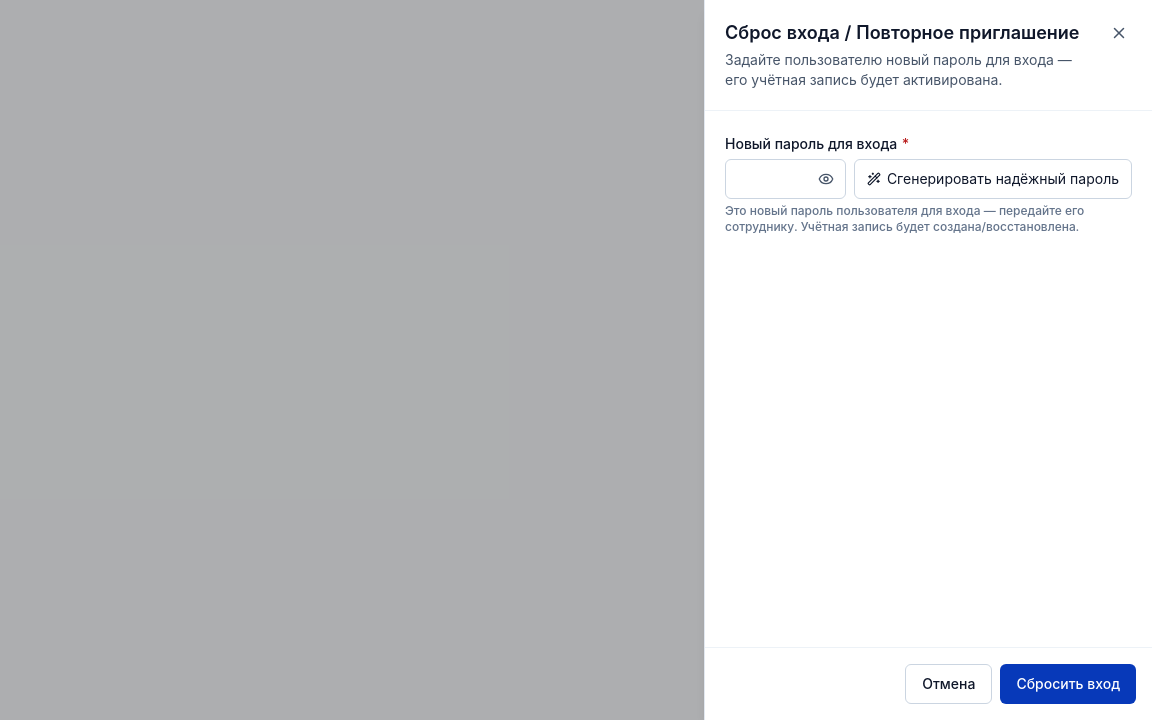
Test: <ResetLoginDialog /> › maps a 502 IDP_PROVISIONING_FAILED to a general try-again banner
Type "Str0ng!Passw0rd" into the password field with test id "reset-login-password-input".
click(785, 179); type("Str0ng!Passw0rd")  # box left=725, top=159, right=846, bottom=199
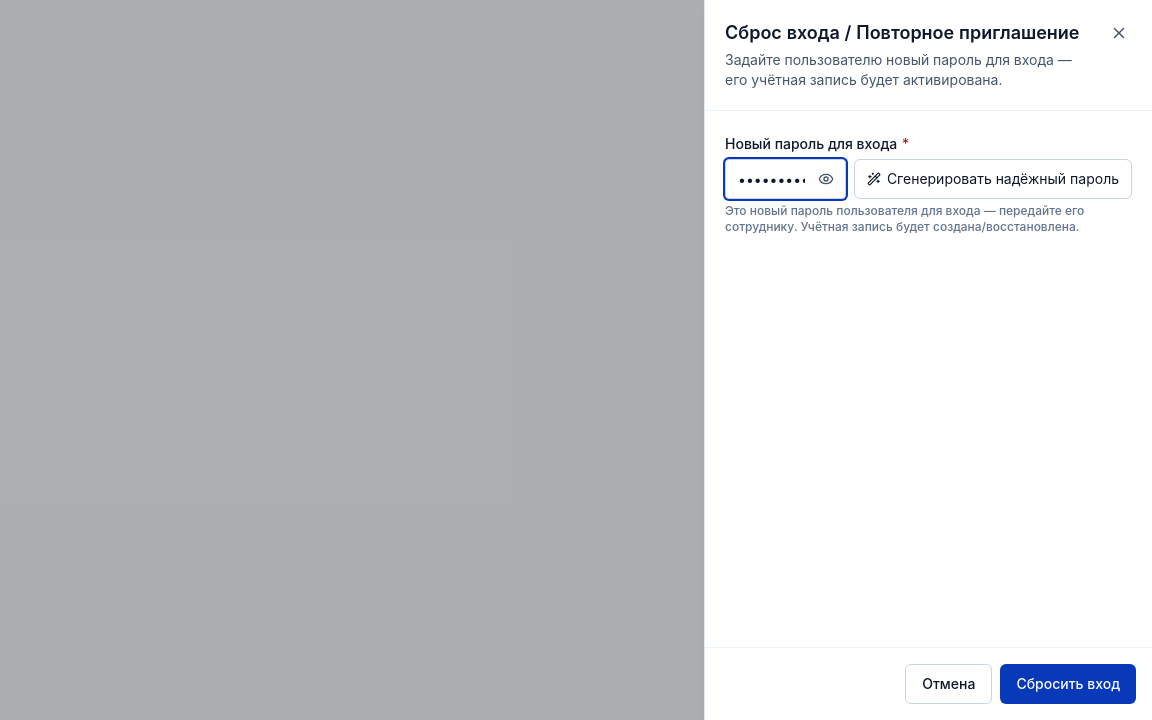
Click the button "Сбросить вход".
click(1068, 684)  # box left=1000, top=664, right=1136, bottom=704
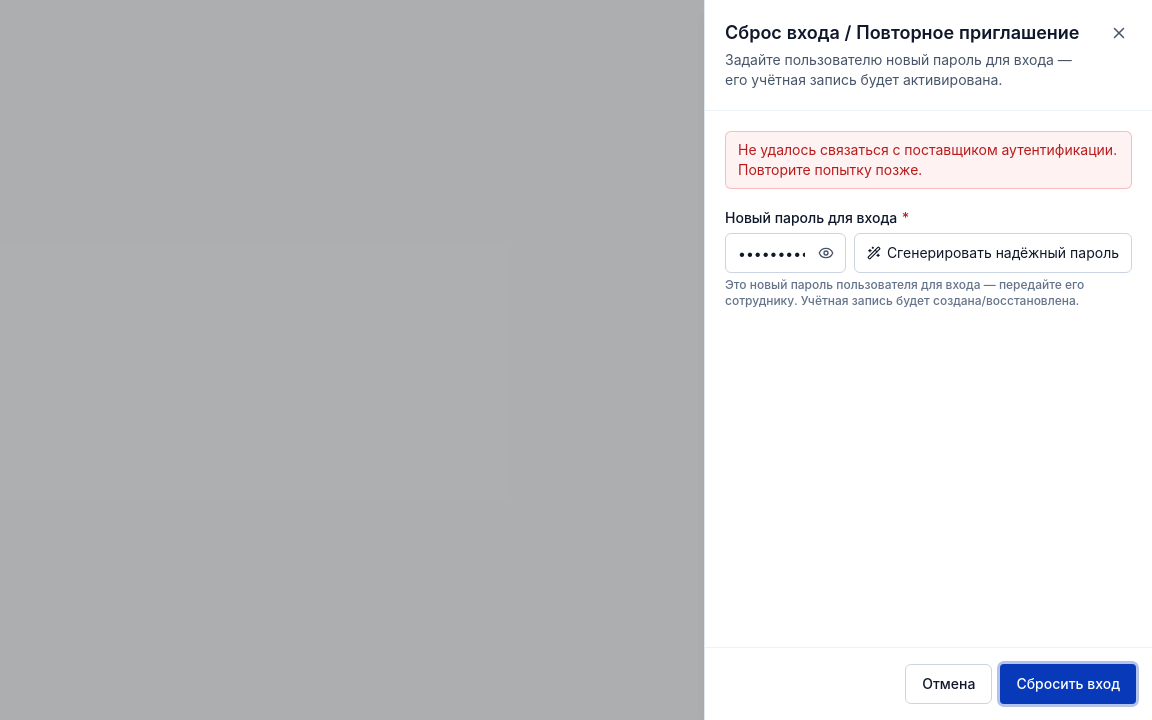
Result: the message "Не удалось связаться с поставщиком аутентификации. Повторите попытку позже." is shown at left=725, top=131, right=1132, bottom=189
